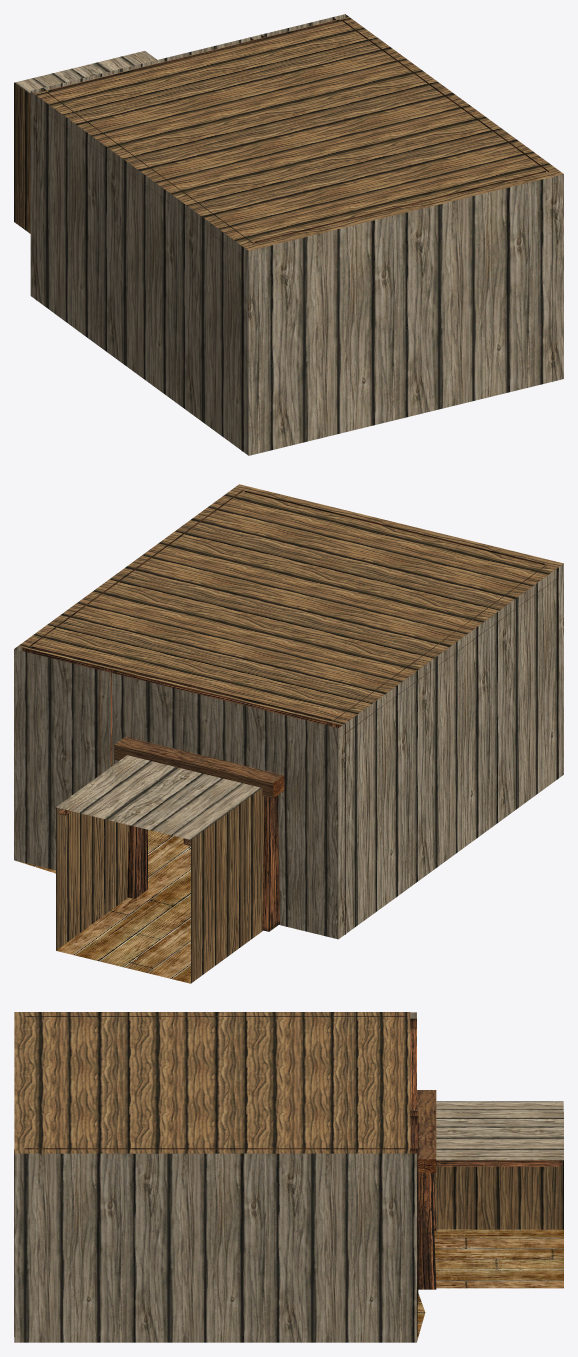
Rendered from LAKETOWN_WAREHOUSE2_PS_WH2_SIDEROOM_99__GX.fbx.
3 renders of one model, top to bottom at view 1: azimuth 30°, elevation 25°; view 2: azimuth 150°, elevation 25°; view 3: azimuth 270°, elevation 25°, orthographic. The views are drawn at different scales.
Visible parts, largest first — view 1: LAKETOWN_WAREHOUSE2_PS_WH2_SIDEROOM_99__GX; view 2: LAKETOWN_WAREHOUSE2_PS_WH2_SIDEROOM_99__GX; view 3: LAKETOWN_WAREHOUSE2_PS_WH2_SIDEROOM_99__GX.
Part boxes in pixels (x1,y1,x2,y2): LAKETOWN_WAREHOUSE2_PS_WH2_SIDEROOM_99__GX: (14,14,563,455); LAKETOWN_WAREHOUSE2_PS_WH2_SIDEROOM_99__GX: (14,484,563,983); LAKETOWN_WAREHOUSE2_PS_WH2_SIDEROOM_99__GX: (14,1012,563,1342).
Bounding box in the file's own units: 67110 × 41955 × 109936.
Materials: 9 (9 with a texture image).
